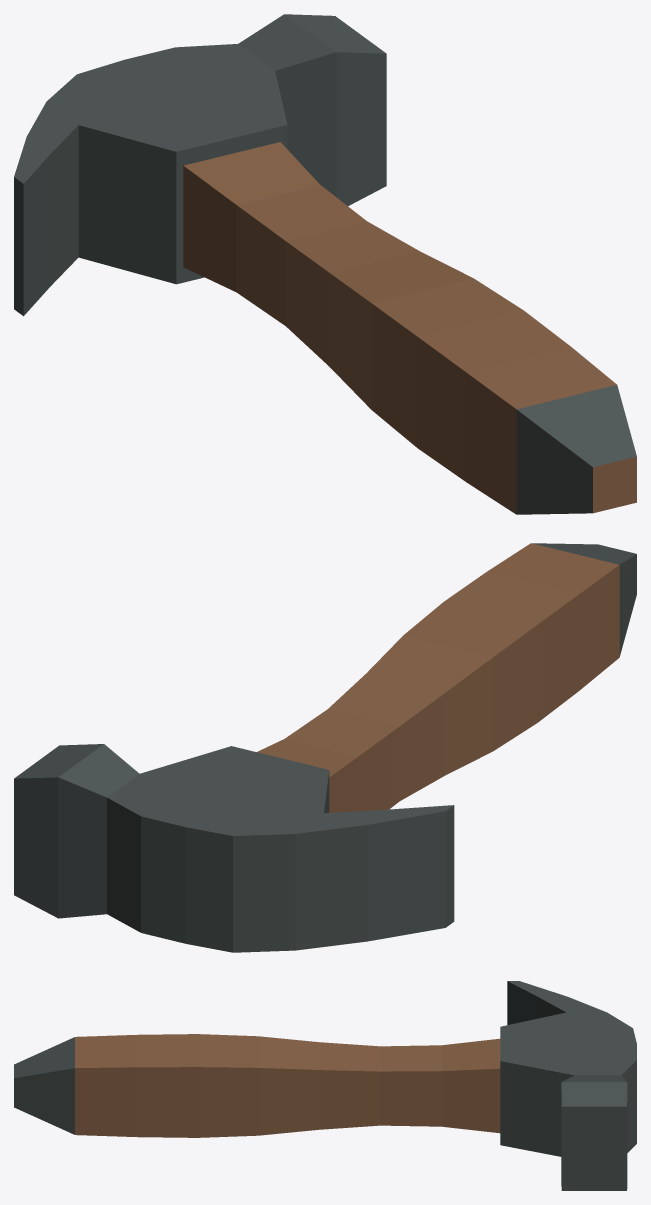
The model's file is Hammer_1_Light_Brown.fbx.
3 views of the same model, one above another, from view 1: azimuth 30°, elevation 25°; view 2: azimuth 150°, elevation 25°; view 3: azimuth 270°, elevation 25° (orthographic). The views are drawn at different scales.
Parts seen in each view (by area): view 1: Hammer_1_Light_Brown; view 2: Hammer_1_Light_Brown; view 3: Hammer_1_Light_Brown.
Part boxes in pixels (left/top/right/bottom): Hammer_1_Light_Brown: left=14, top=14, right=636, bottom=514; Hammer_1_Light_Brown: left=14, top=543, right=636, bottom=952; Hammer_1_Light_Brown: left=14, top=981, right=636, bottom=1190.
Bounding box in the file's own units: 16.3 × 6.15 × 34.12.
